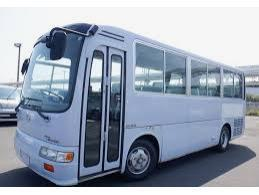bus: (19, 24, 244, 183)
